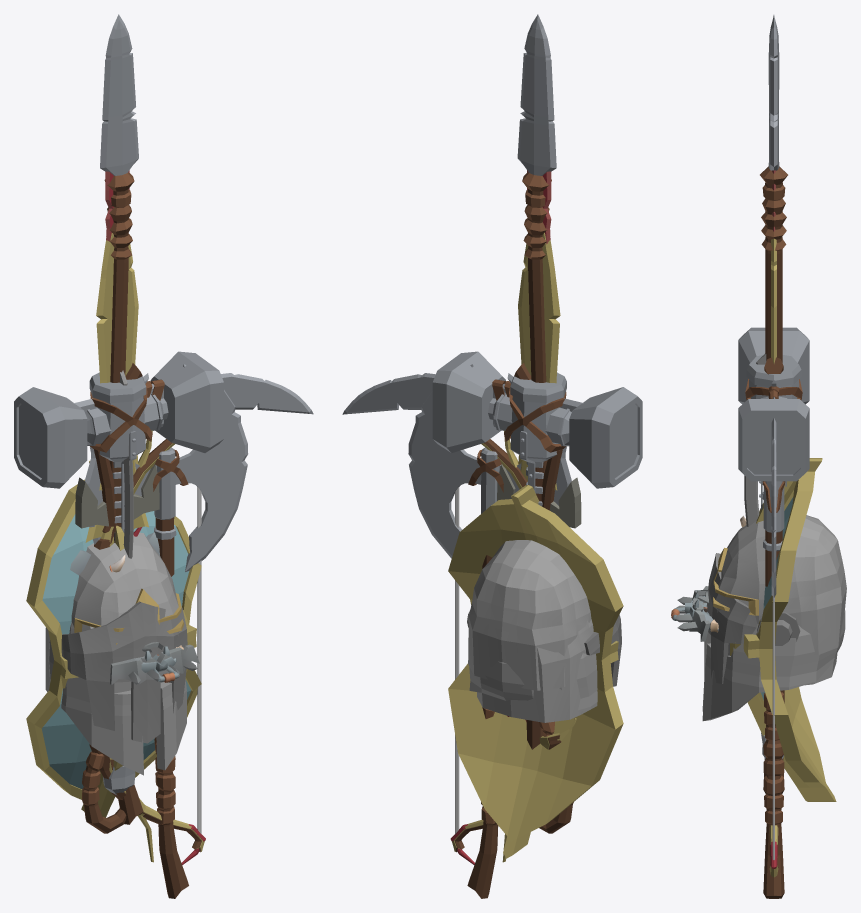
File: props.glb
The picture shows the model from 3 angles, left to right: view 1: azimuth 30°, elevation 25°; view 2: azimuth 150°, elevation 25°; view 3: azimuth 270°, elevation 25°; orthographic projection. The views are drawn at different scales.
Parts seen in each view (by area): view 1: Hammer_Double, Shield_Celtic_Golden, Axe_Double, Helmet, Spear, Helmet3, Helmet2, Scythe, Sword_Golden, Claymore, Bow_Wooden, Skeleton_Crossbow (+4 smaller); view 2: Shield_Celtic_Golden, Hammer_Double, Helmet3, Axe_Double, Spear, Helmet, Scythe, Sword_Golden, Helmet2, Claymore, Bow_Wooden, Bow_Golden; view 3: Hammer_Double, Helmet3, Shield_Celtic_Golden, Helmet2, Axe_Double, Spear, Helmet, Skeleton_Crossbow, Bow_Evil, Scythe, Sword_Golden, Katana (+1 smaller).
Part boxes in pixels (x1=…): Hammer_Double: x1=14, y1=351, x2=223, y2=794; Shield_Celtic_Golden: x1=26, y1=461, x2=201, y2=817; Axe_Double: x1=85, y1=364, x2=248, y2=898; Helmet: x1=45, y1=601, x2=187, y2=743; Spear: x1=100, y1=14, x2=143, y2=824; Helmet3: x1=71, y1=532, x2=184, y2=693; Helmet2: x1=48, y1=640, x2=186, y2=775; Scythe: x1=73, y1=363, x2=313, y2=833; Sword_Golden: x1=85, y1=233, x2=148, y2=542; Claymore: x1=75, y1=170, x2=159, y2=542; Bow_Wooden: x1=89, y1=439, x2=201, y2=852; Skeleton_Crossbow: x1=110, y1=642, x2=199, y2=685; Shield_Celtic_Golden: x1=448, y1=485, x2=623, y2=858; Hammer_Double: x1=432, y1=351, x2=642, y2=749; Helmet3: x1=468, y1=540, x2=591, y2=690; Axe_Double: x1=408, y1=364, x2=571, y2=898; Spear: x1=517, y1=14, x2=556, y2=729; Helmet: x1=467, y1=611, x2=621, y2=722; Scythe: x1=342, y1=363, x2=583, y2=833; Sword_Golden: x1=518, y1=232, x2=560, y2=490; Helmet2: x1=469, y1=653, x2=597, y2=711; Claymore: x1=497, y1=170, x2=581, y2=528; Bow_Wooden: x1=454, y1=439, x2=561, y2=852; Bow_Golden: x1=452, y1=430, x2=576, y2=862; Hammer_Double: x1=738, y1=327, x2=809, y2=759; Helmet3: x1=713, y1=515, x2=846, y2=655; Shield_Celtic_Golden: x1=730, y1=458, x2=836, y2=801; Helmet2: x1=702, y1=599, x2=845, y2=721; Axe_Double: x1=762, y1=380, x2=785, y2=898; Spear: x1=760, y1=15, x2=787, y2=793; Helmet: x1=704, y1=553, x2=837, y2=685; Skeleton_Crossbow: x1=673, y1=586, x2=710, y2=641; Bow_Evil: x1=770, y1=596, x2=777, y2=868; Scythe: x1=764, y1=357, x2=783, y2=532; Sword_Golden: x1=771, y1=238, x2=776, y2=363; Katana: x1=744, y1=353, x2=766, y2=526.
Bounding box in the file's own units: 3.55 × 10.74 × 1.99.
Materials: 27 (5 with a texture image).
